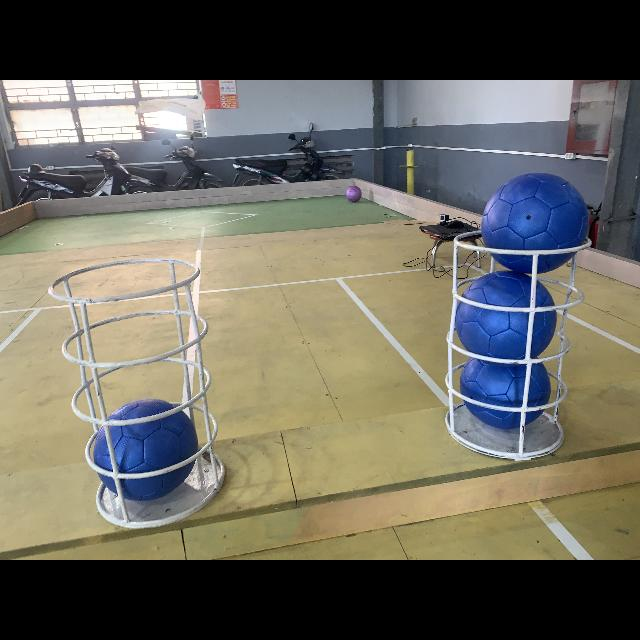B: (92, 399, 196, 499), (484, 172, 588, 272), (458, 272, 556, 360), (462, 356, 550, 430)
